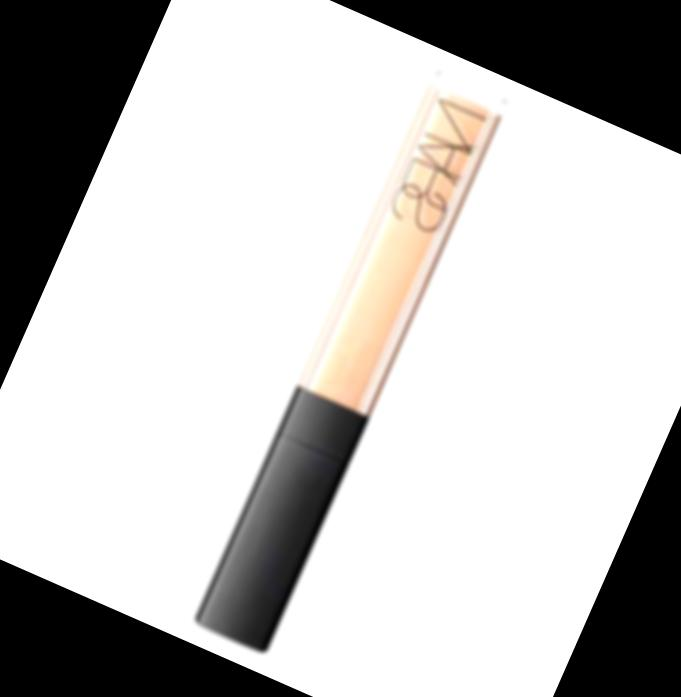cosmetic: (193, 65, 513, 655)
